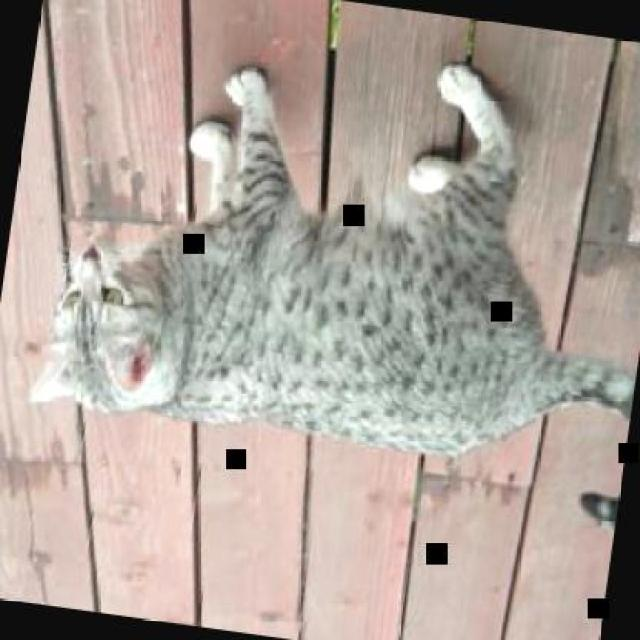cat: (20, 6, 638, 529)
